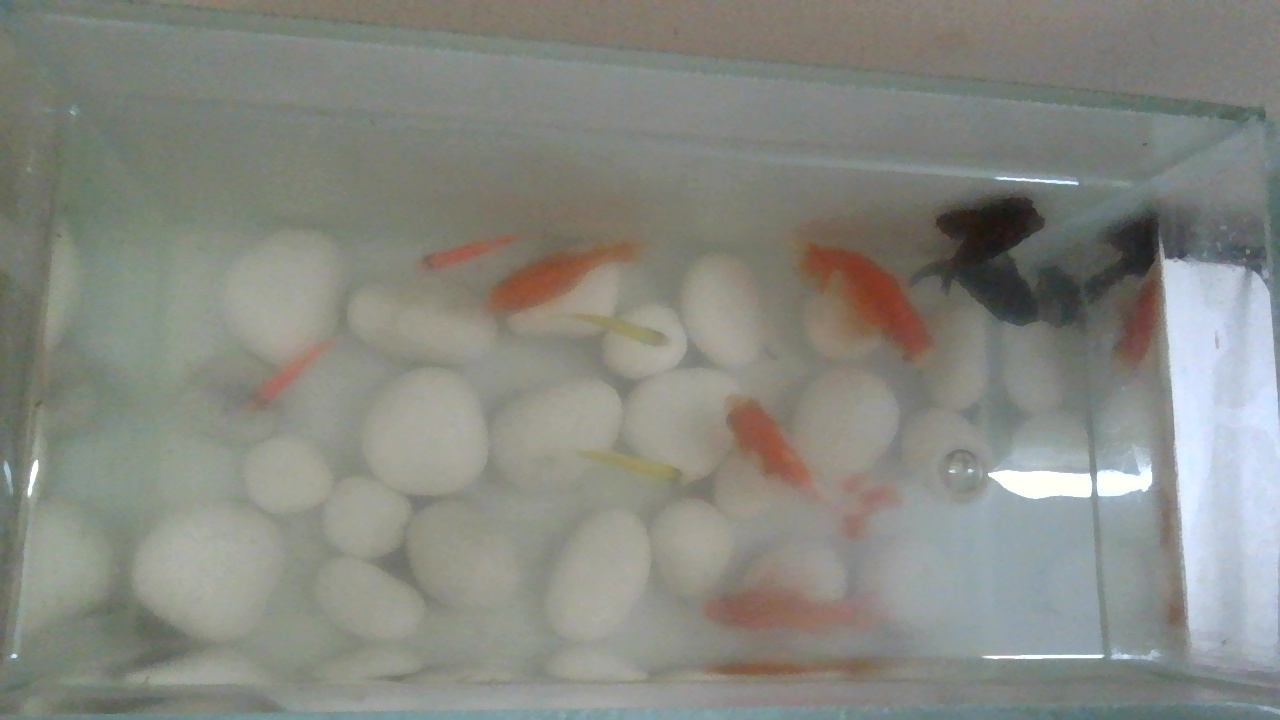fish: (704, 390, 858, 619)
